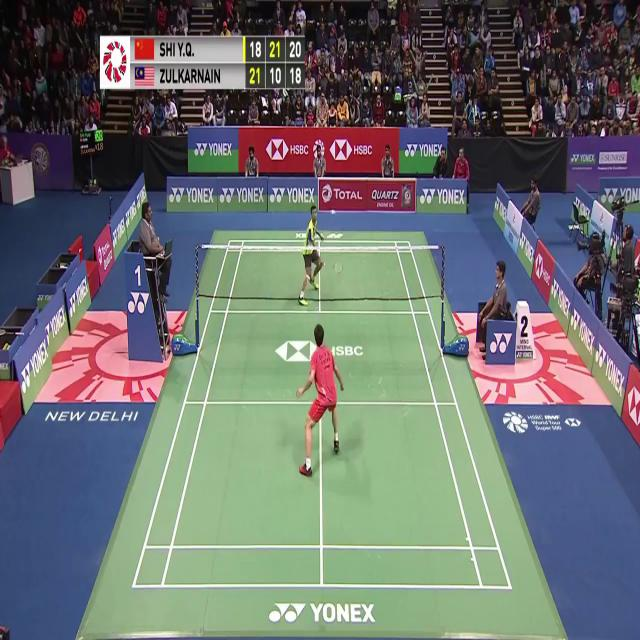Shuttlecock: (329, 206, 336, 217)
